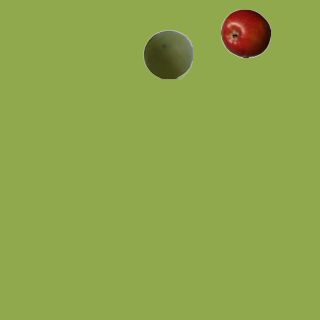Apple Braeburn: (220, 8, 270, 58)
Grape White 4: (142, 29, 192, 79)
